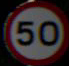Speed limit: (6, 3, 62, 58)
